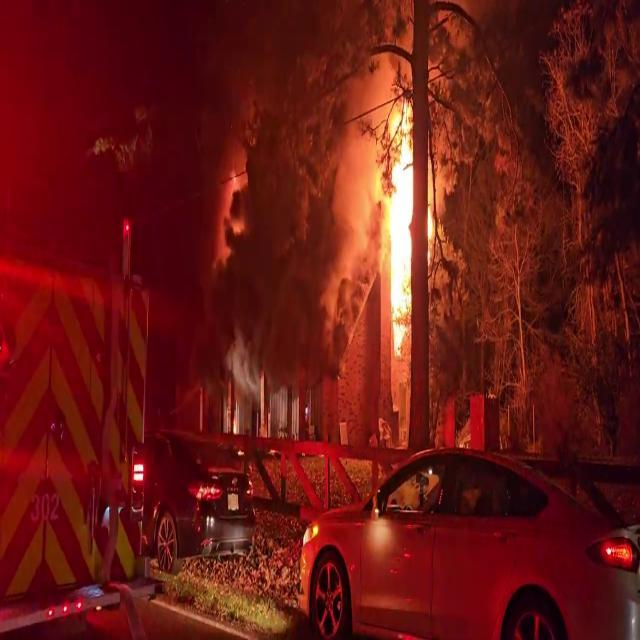Fire: (379, 100, 418, 342)
Smoke: (248, 64, 388, 367)
